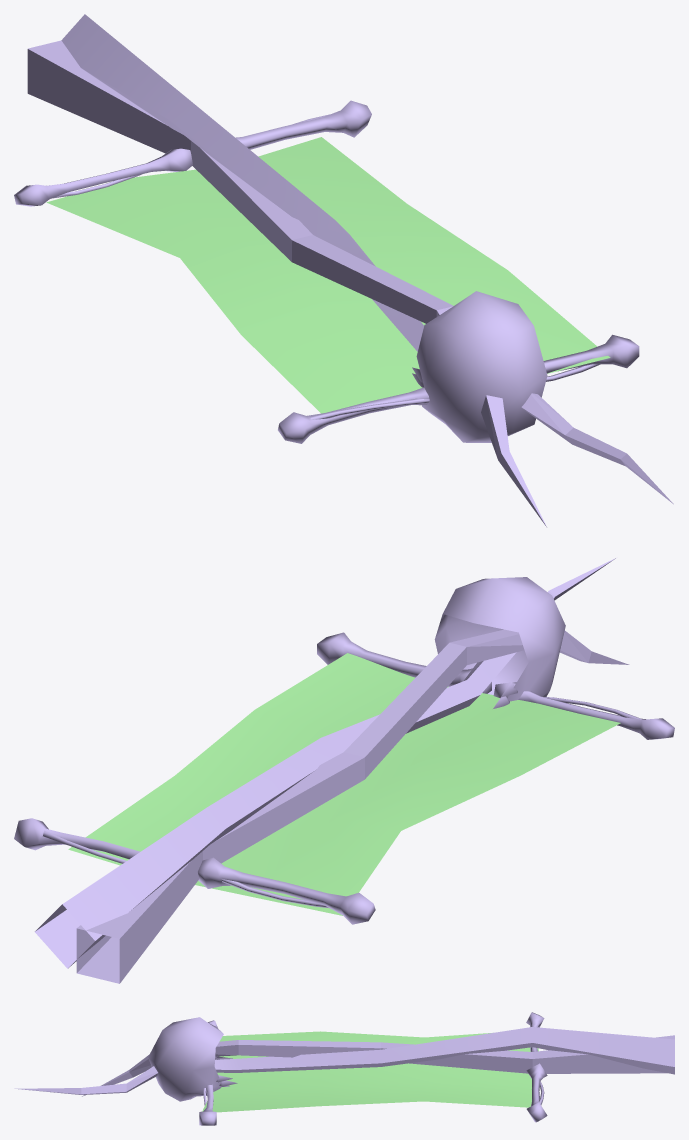
The picture shows the model from 3 angles, top to bottom: view 1: azimuth 30°, elevation 25°; view 2: azimuth 150°, elevation 25°; view 3: azimuth 270°, elevation 25°; orthographic projection. The views are drawn at different scales.
Visible parts, largest first — view 1: Object73; view 2: Object73; view 3: Object73.
Boxes of the visible parts, left/top/right/bottom form: Object73: left=14, top=14, right=673, bottom=527; Object73: left=14, top=558, right=674, bottom=983; Object73: left=14, top=1012, right=674, bottom=1125.
Size of the model in its own units: 17116 by 6867 by 46136.
